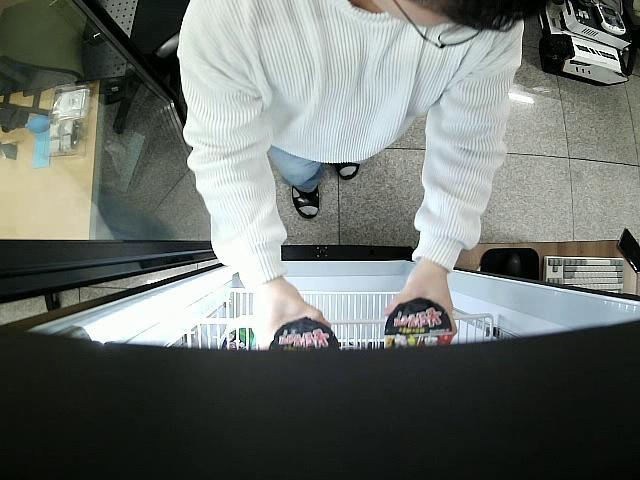08_buldak_S: (384, 298, 452, 350), (268, 317, 341, 353)
